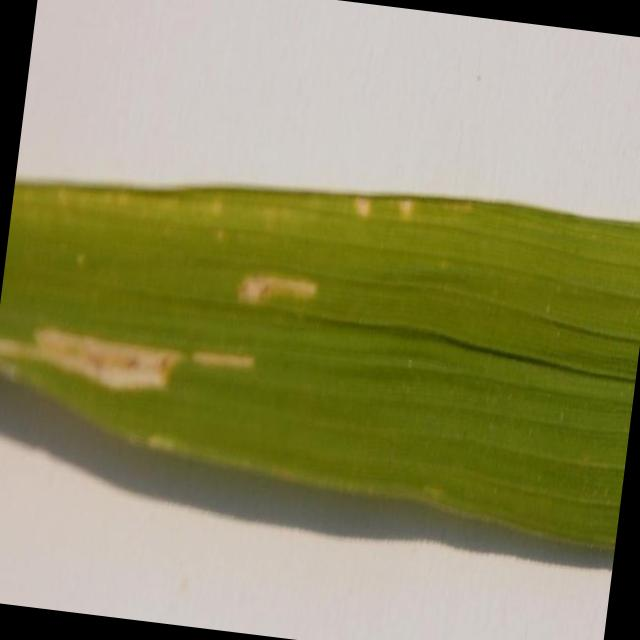Rice_Bacterial_Blight: (22, 118, 479, 324), (0, 279, 275, 466)
